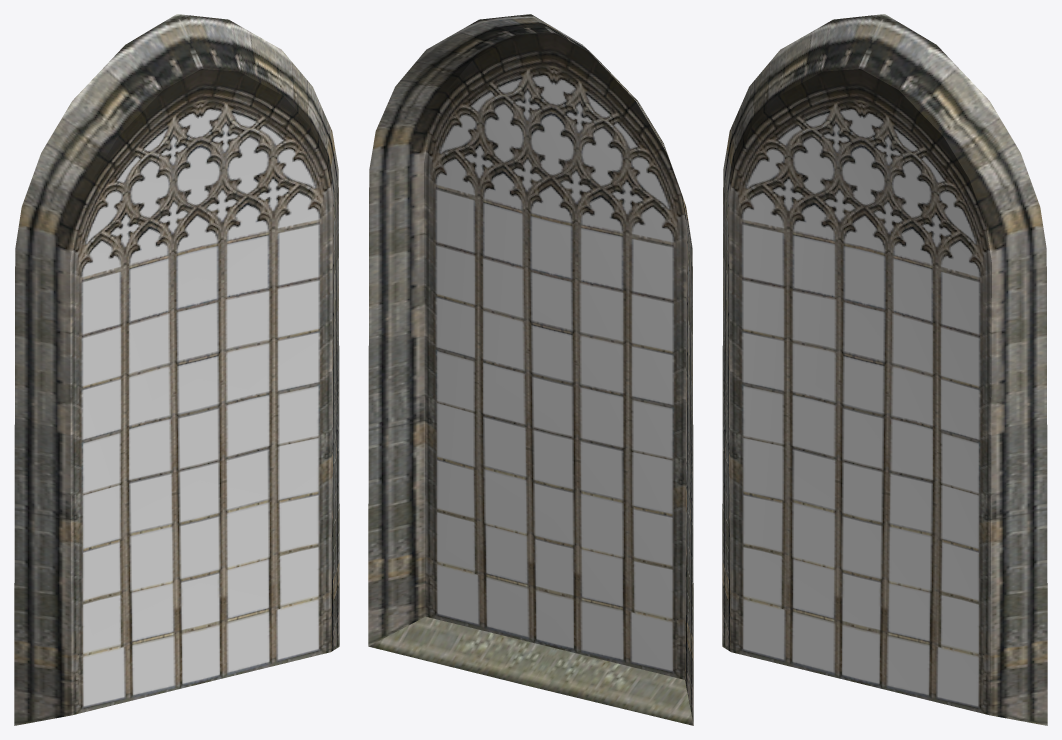
The model's file is GreenLand_Dungeon_Window01.FBX.
3 renders of one model, left to right at view 1: azimuth 30°, elevation 25°; view 2: azimuth 150°, elevation 25°; view 3: azimuth 330°, elevation 25°, orthographic.
Parts seen in each view (by area): view 1: GreenLand_Dungeon_Window01; view 2: GreenLand_Dungeon_Window01; view 3: GreenLand_Dungeon_Window01.
Part boxes in pixels (x1,y1,x2,y2): GreenLand_Dungeon_Window01: (14, 14, 339, 725); GreenLand_Dungeon_Window01: (368, 14, 693, 725); GreenLand_Dungeon_Window01: (722, 14, 1047, 725).
Size of the model in its own units: 202 by 398 by 26.36.
